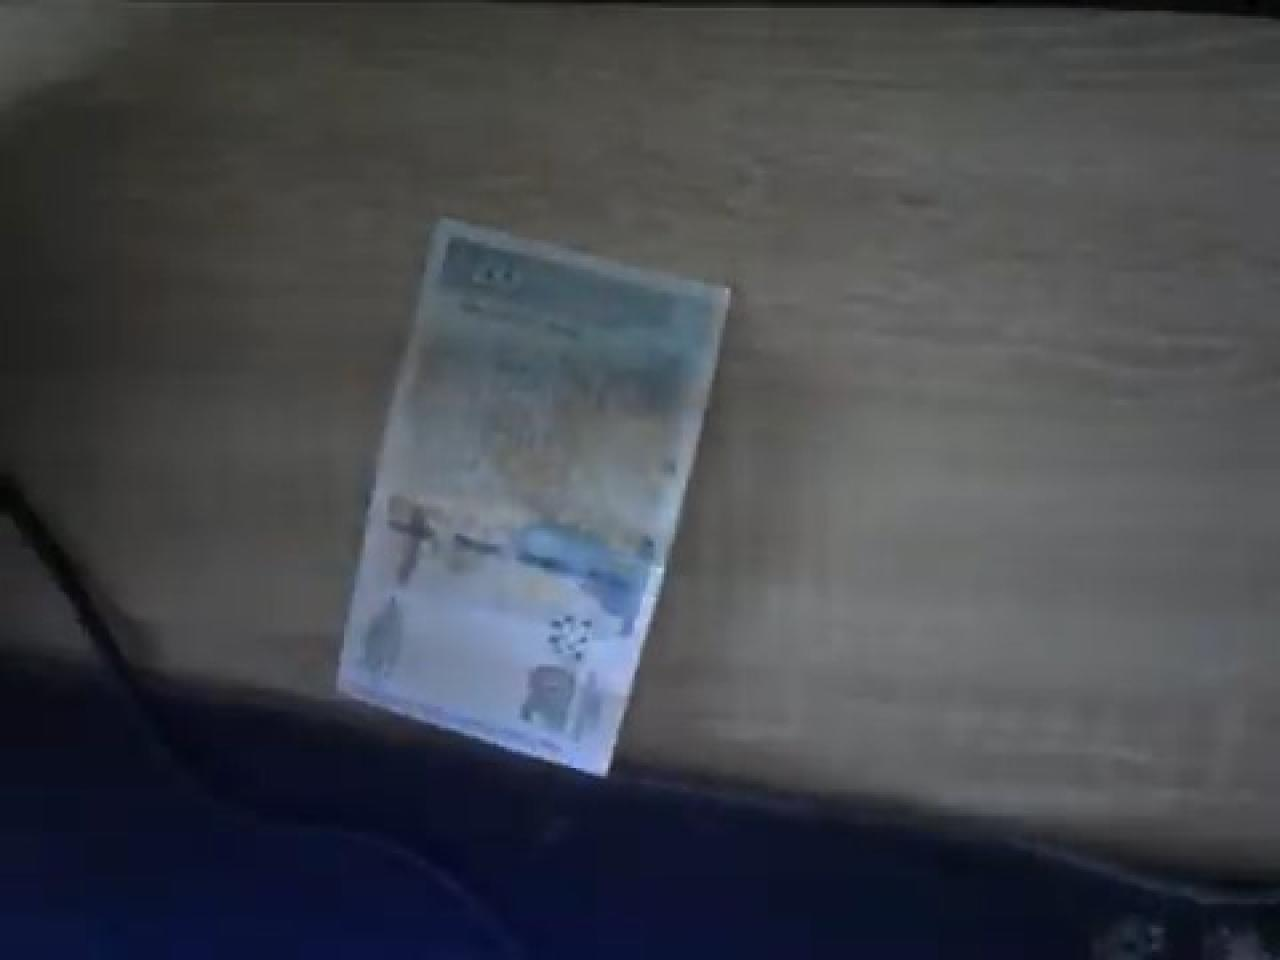20leva: (336, 216, 736, 773)
